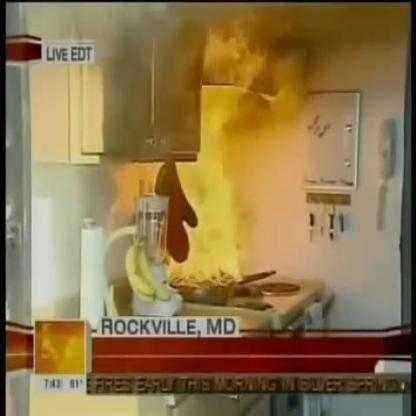fire: (170, 36, 279, 288)
